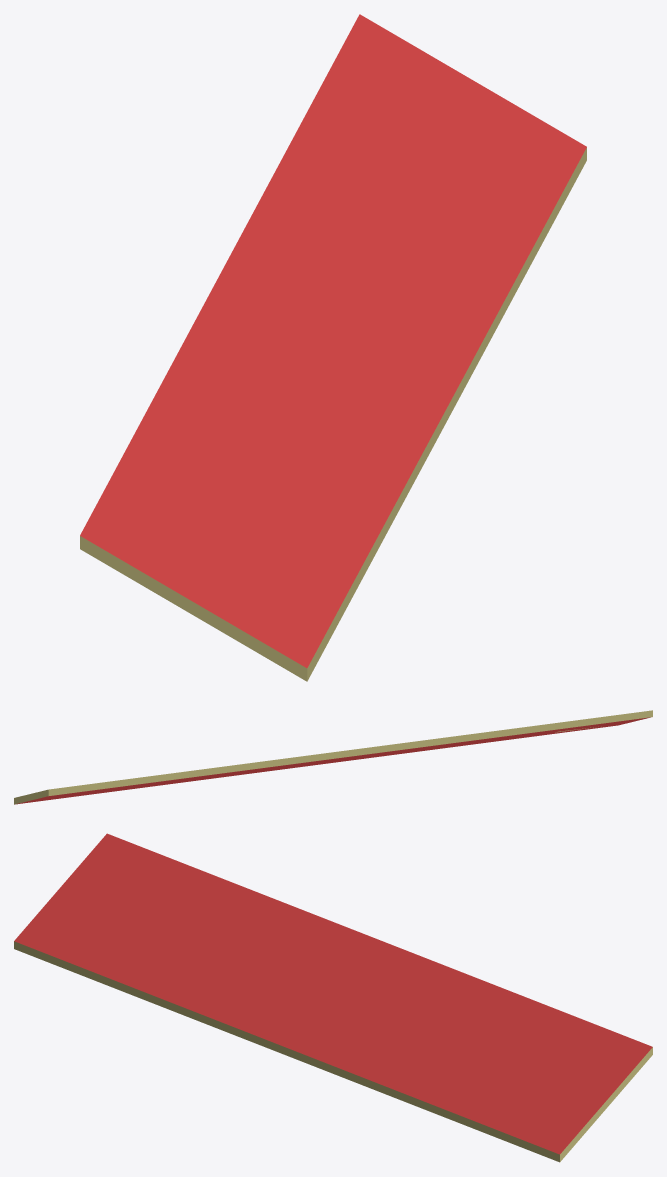
The picture shows the model from 3 angles, top to bottom: view 1: azimuth 30°, elevation 25°; view 2: azimuth 150°, elevation 25°; view 3: azimuth 270°, elevation 25°; orthographic projection. The views are drawn at different scales.
Size of the model in its own units: 6.98 by 7.37 by 0.93.
